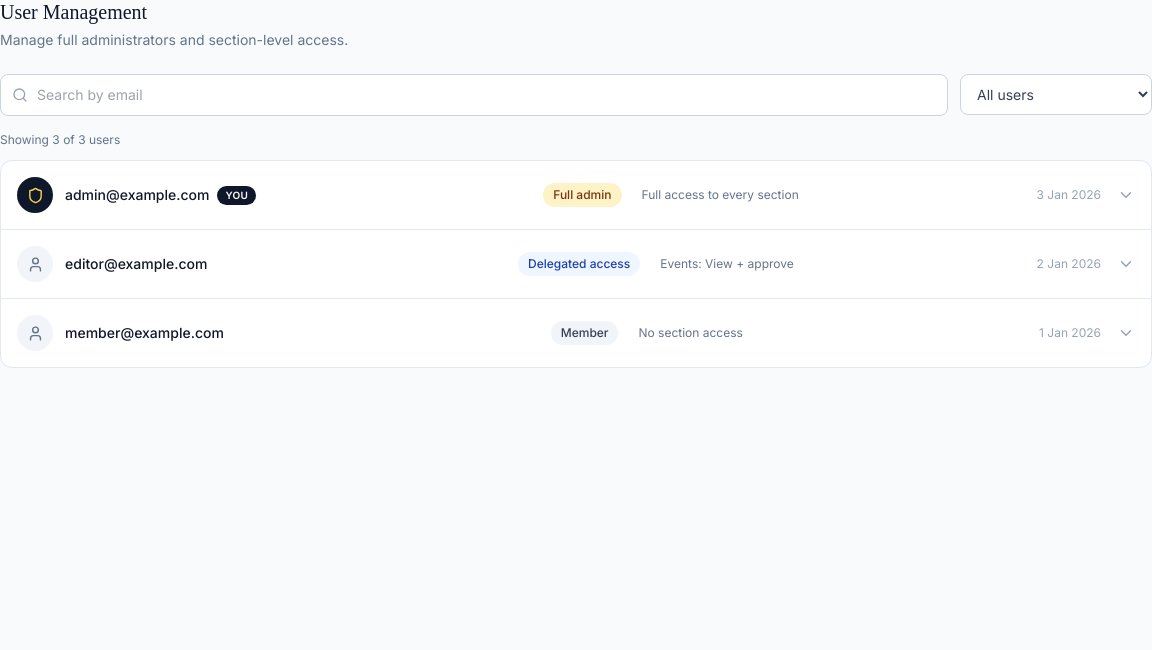
AdminUsersPage › removes an existing section permission when access is set to none
The image size is (1152, 650).
Click the button with aria-label "Manage access for editor@example.com": (576, 264) [1, 230, 1151, 298]
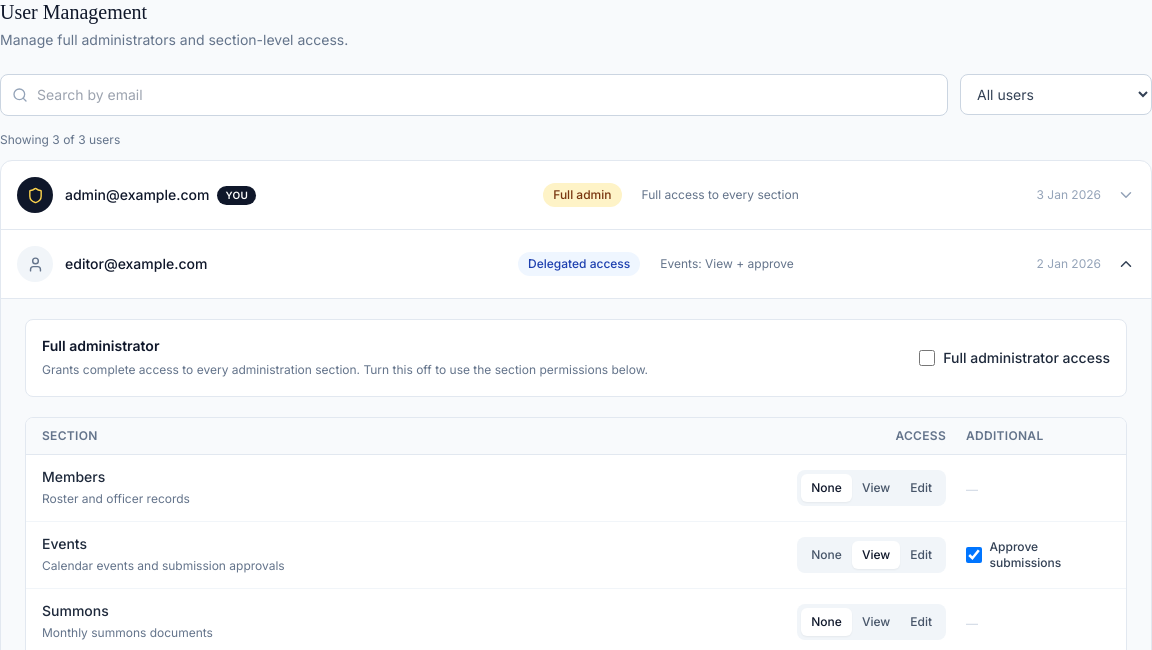
Click the radio button with aria-label "None Events": (827, 554) [811, 547, 842, 562]
(page scrolled)
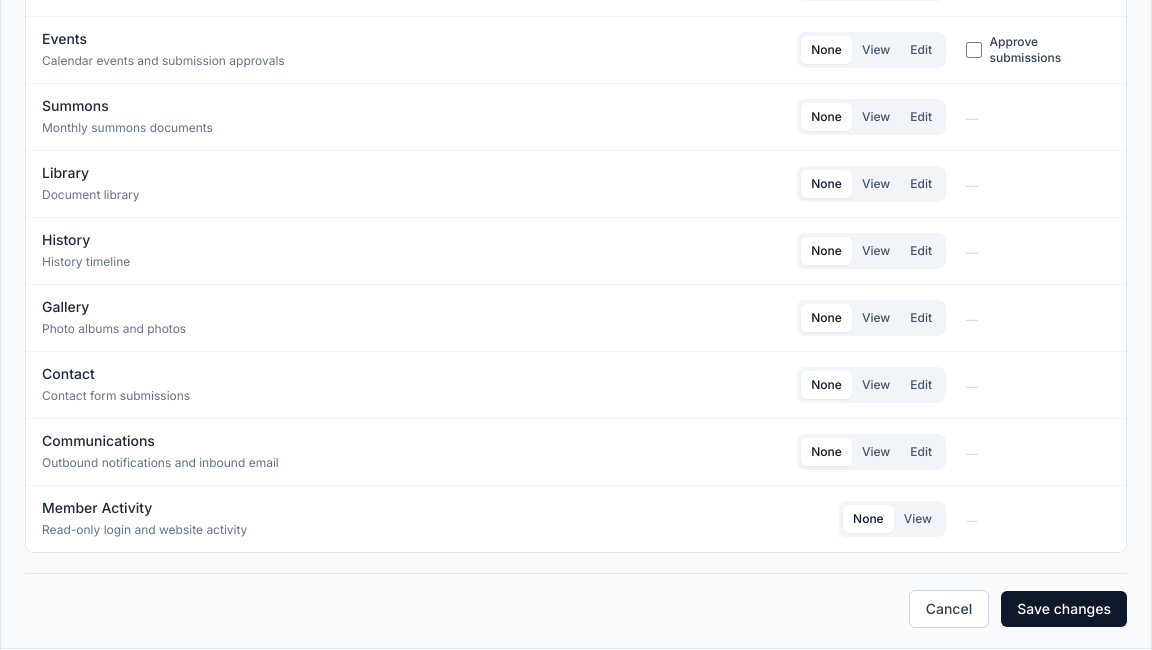
Click the button "Save changes": (1064, 609) [1001, 591, 1127, 627]
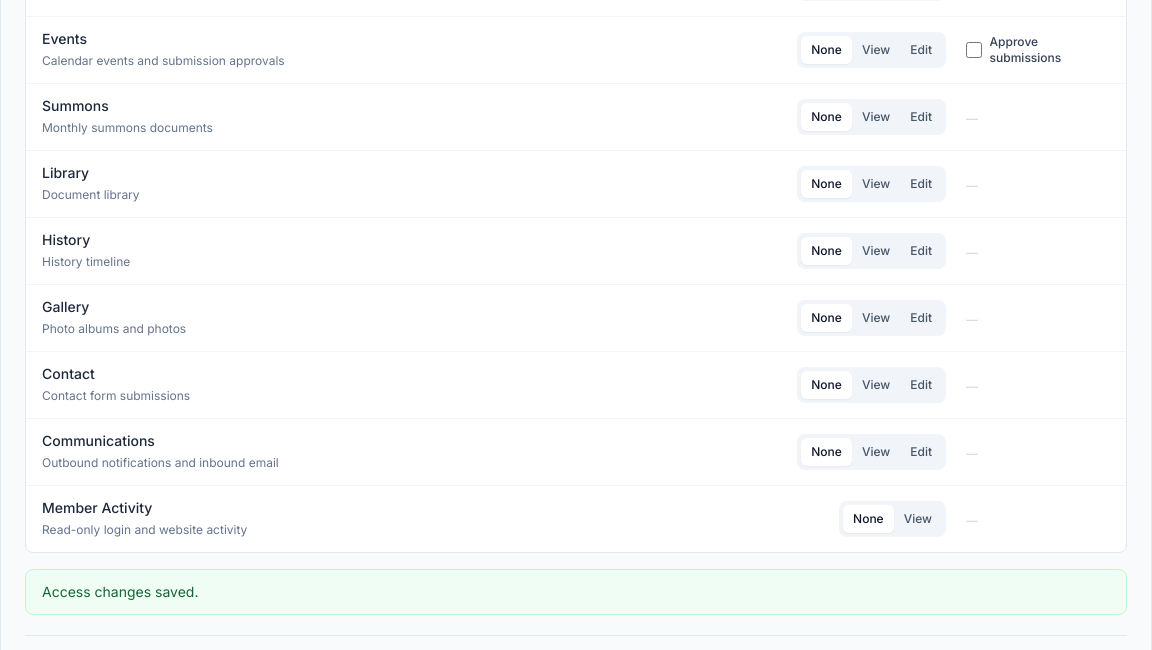
Now the message reads "Access changes saved.", box [42, 583, 198, 600]
